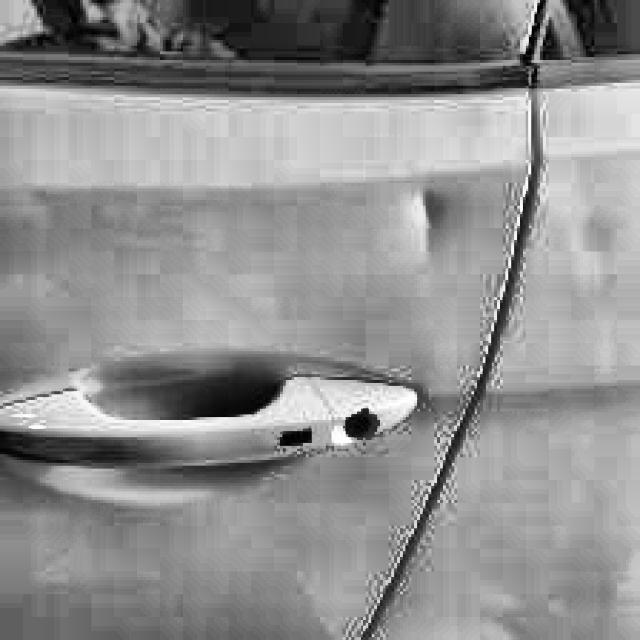door_dent: (379, 187, 473, 264)
